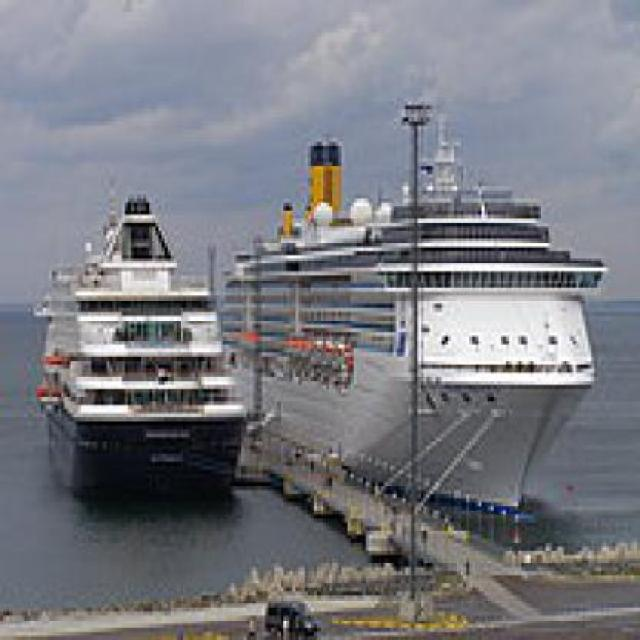cruise: (214, 94, 620, 523), (19, 175, 263, 524)
